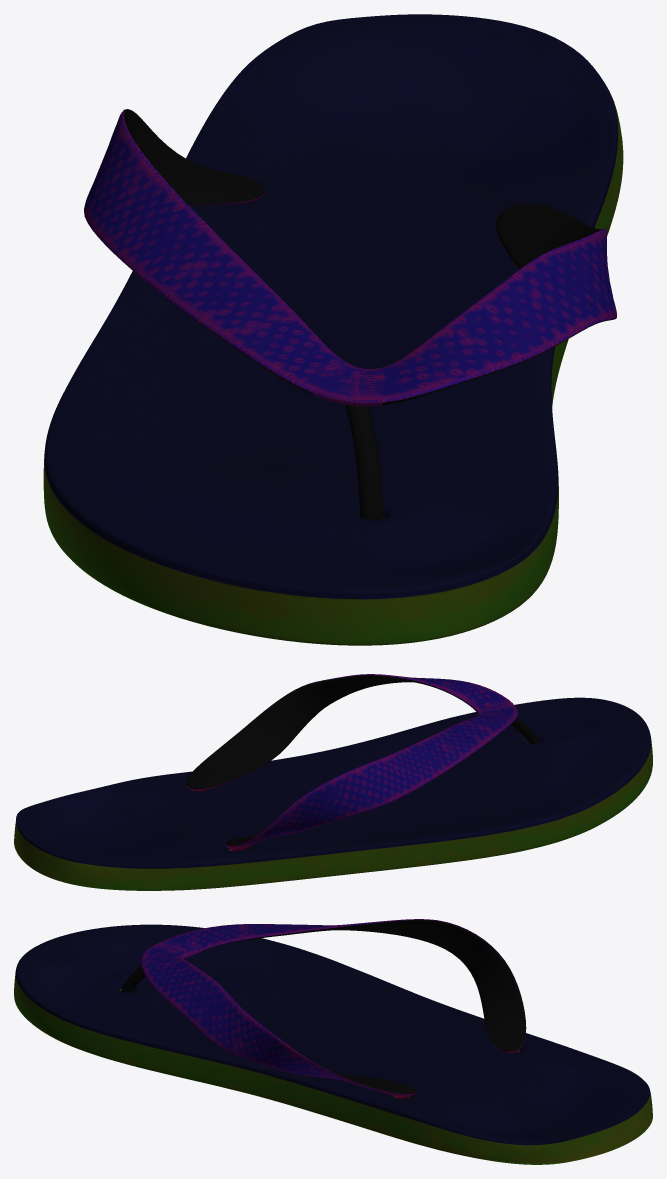
The model's file is src_tsinelas_flip_flops.glb.
3 renders of one model, top to bottom at view 1: azimuth 30°, elevation 25°; view 2: azimuth 150°, elevation 25°; view 3: azimuth 270°, elevation 25°, orthographic. The views are drawn at different scales.
Parts seen in each view (by area): view 1: Strap; view 2: Strap; view 3: Strap.
Boxes of the visible parts, x1,y1,x2,y2 form: Strap: [43, 14, 623, 645]; Strap: [14, 674, 652, 890]; Strap: [14, 919, 652, 1164].
Size of the model in its own units: 0.2151 by 0.0512 by 0.2643.
2 materials, 2 textured.
